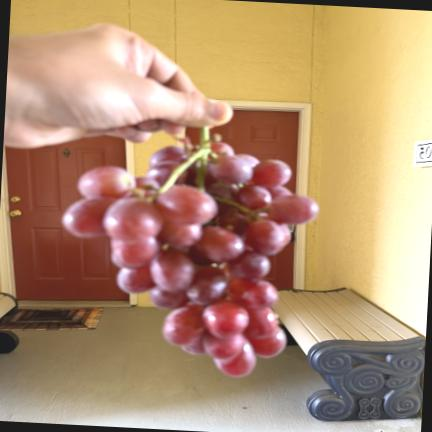grape_cluster: (62, 128, 319, 377)
